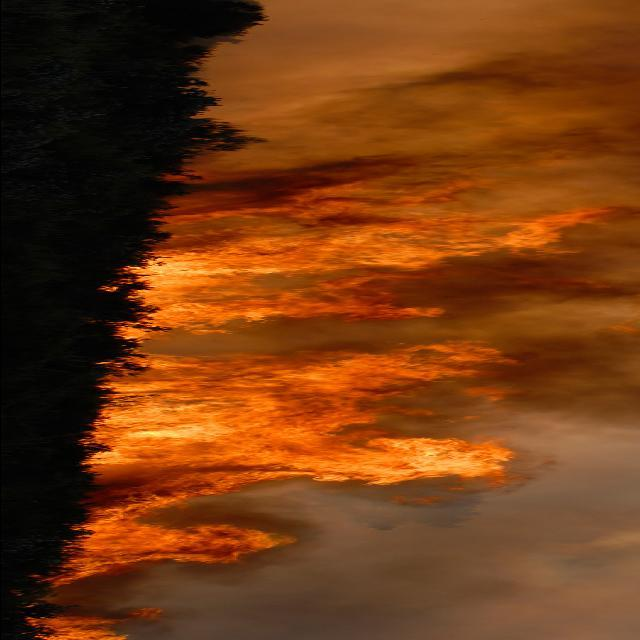Fire: (17, 148, 603, 640)
